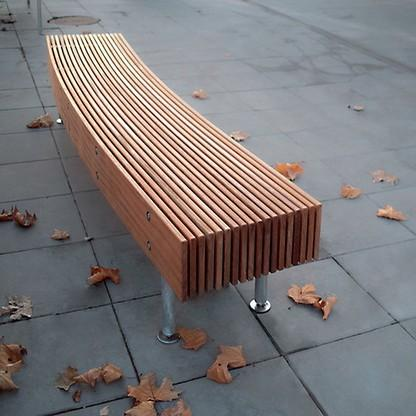obstacle: (36, 24, 328, 349)
